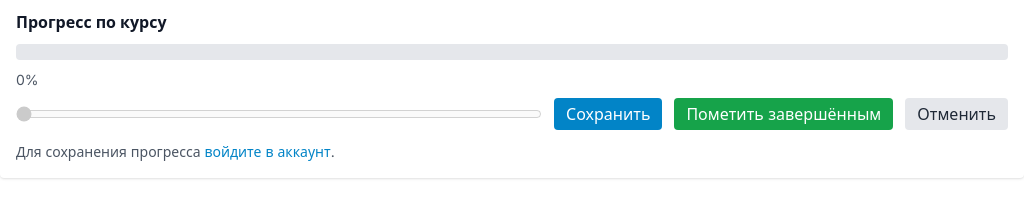
ProgressTracker › shows auth error when saving without token
The image size is (1024, 224).
What coordinates should you click on to do the following:
click the button "Сохранить"
I would click on:
 (608, 114)
Its box is [554, 98, 662, 130].
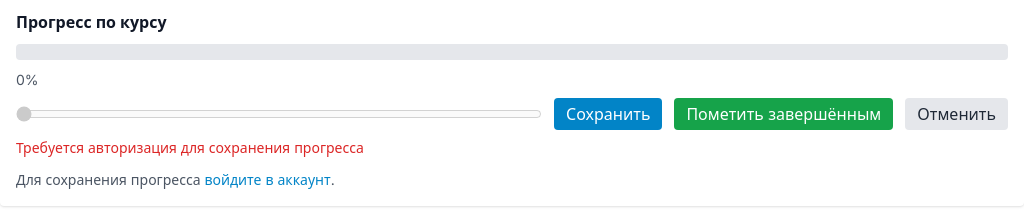
Now the text "Требуется авторизация для сохранения прогресса" is shown, box [16, 139, 364, 156]
